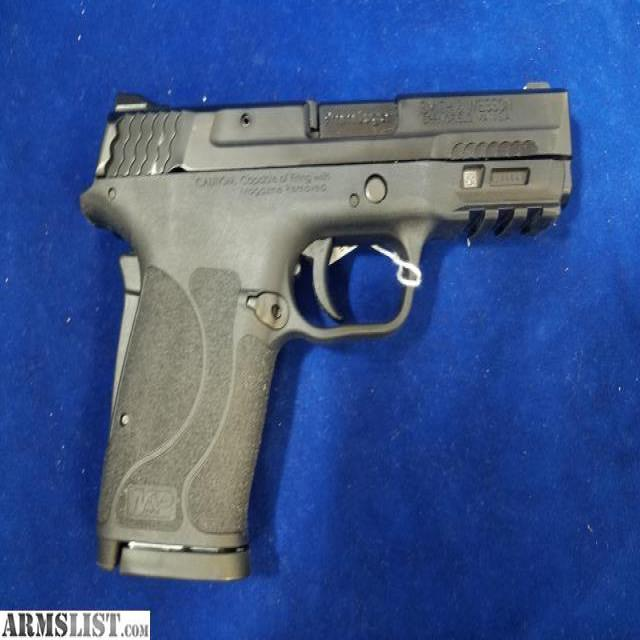HandGun: (79, 84, 575, 584)
